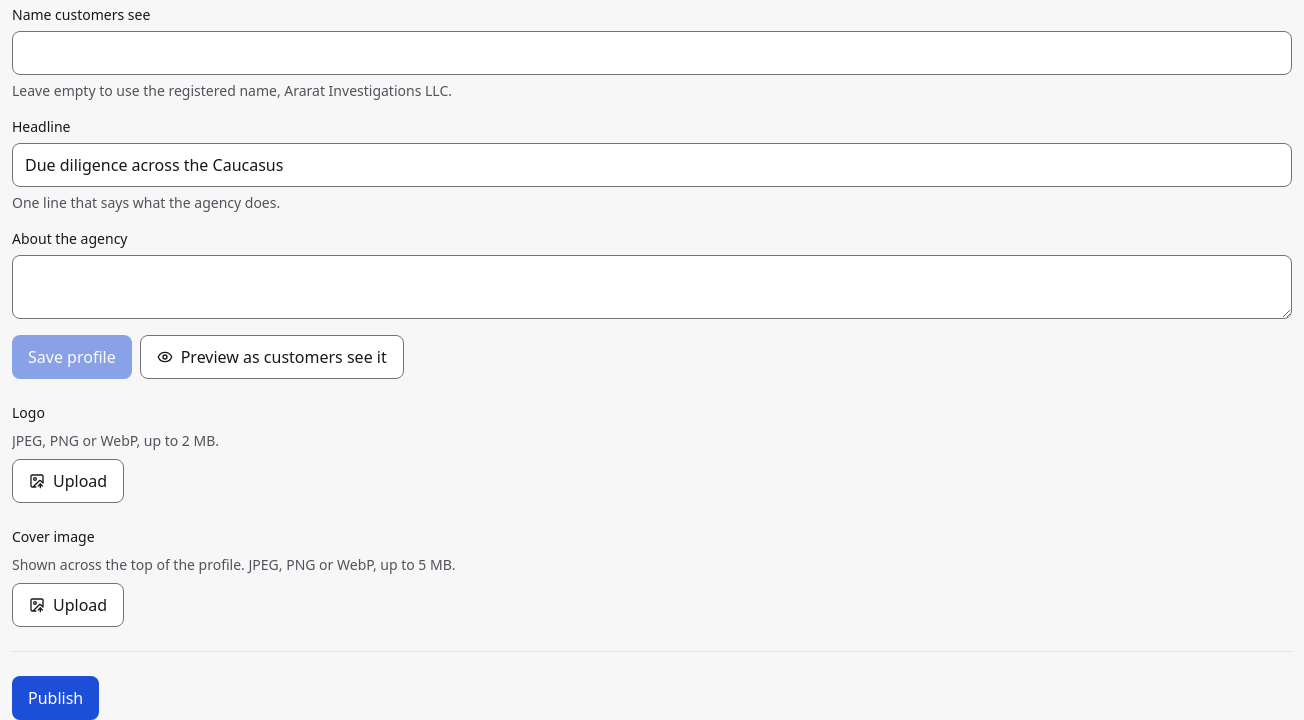
Test: the public profile editor › publishes, then links to the public page — and unpublishes
(page scrolled)
Click the button "Publish".
click(56, 698)  # box left=12, top=676, right=99, bottom=719
(page scrolled)
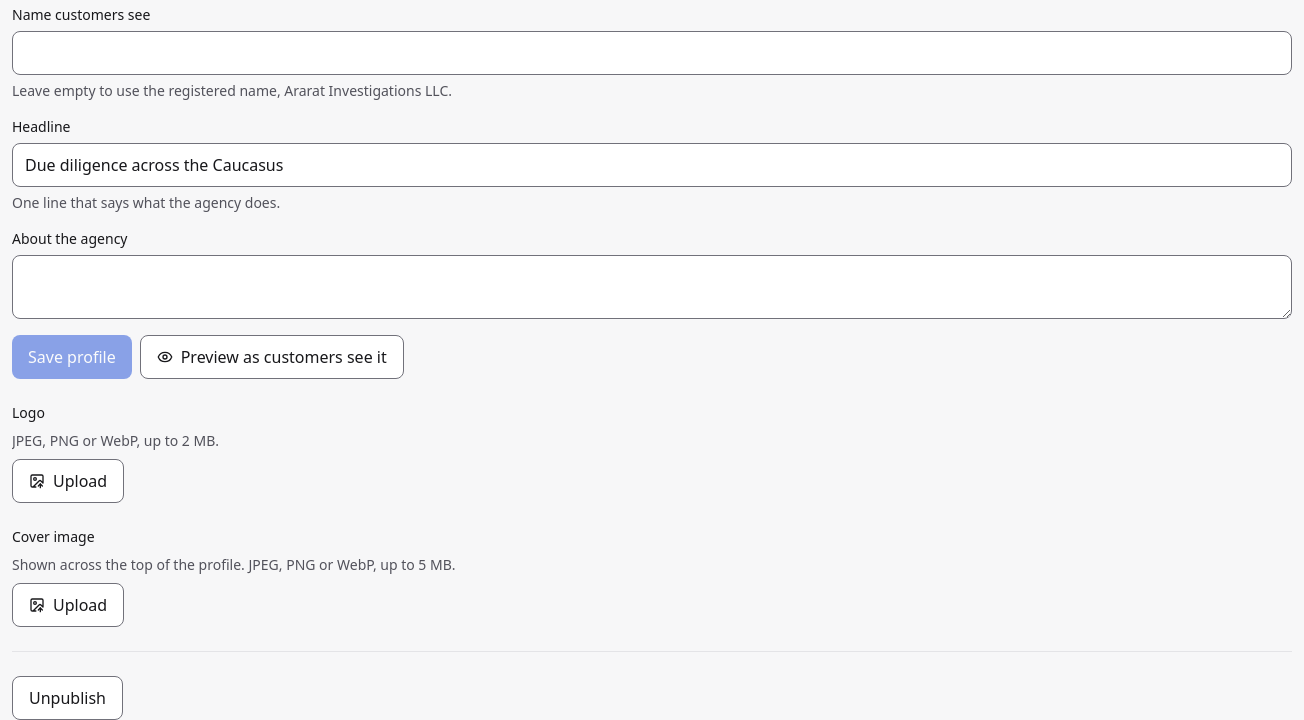
Click the button "Unpublish".
click(68, 698)  # box left=12, top=676, right=123, bottom=719
(page scrolled)
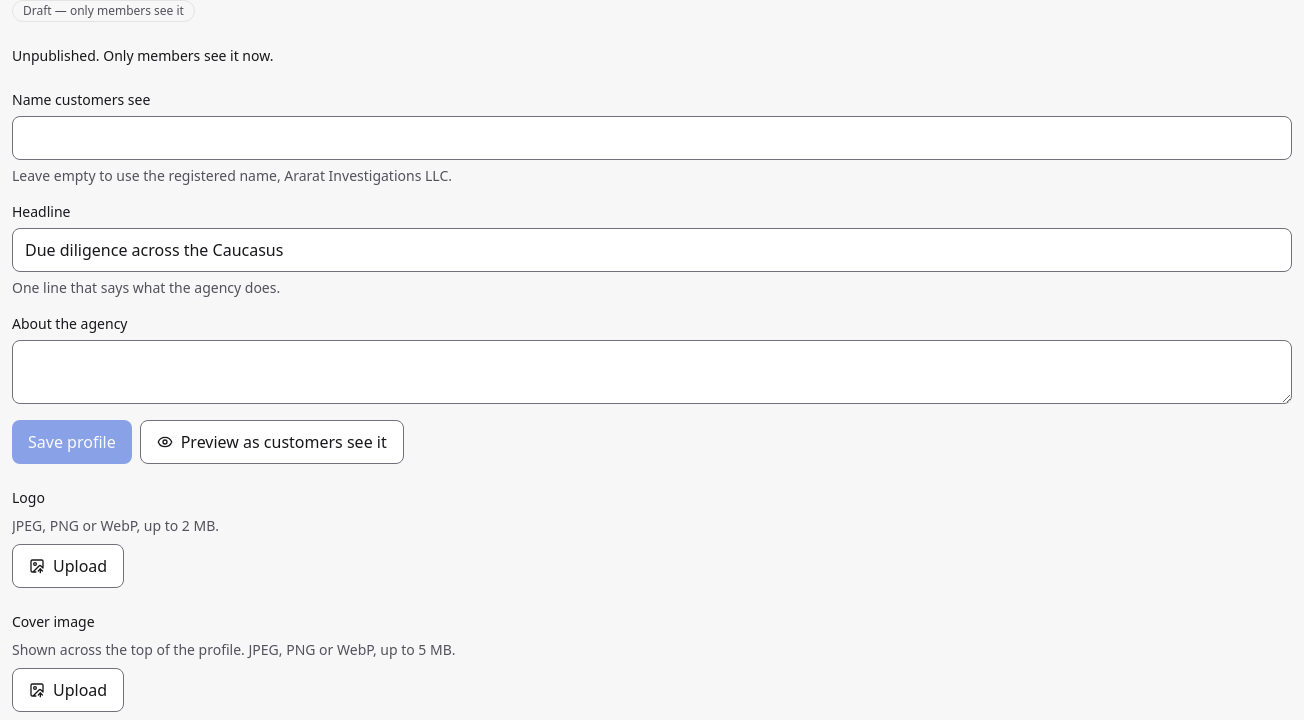
Result: the text "Unpublished. Only members see it now." is shown at left=12, top=46, right=273, bottom=65
Result: the text "Draft — only members see it" is shown at left=12, top=0, right=195, bottom=22
